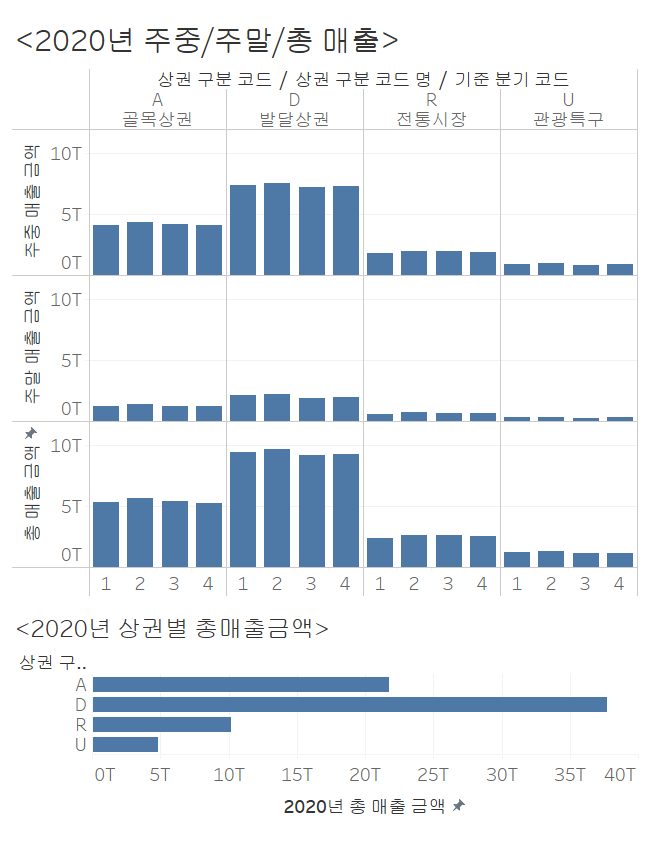

The dashboard page shown, as its layout file describes it:
{"tool":"tableau","page":{"name":"대시보드 2","canvas":[650,860],"ordinal":1},"visuals":[{"type":"worksheet","title":"2020_1","mark":"Automatic","rows":["주중_매출_금액","주말_매출_금액","Calculation_1875467832714543112"],"cols":["상권_구분_코드","상권_구분_코드_명","기준_분기_코드"],"box":[8,8,634,593]},{"type":"worksheet","title":"2020_2","mark":"Automatic","rows":["상권_구분_코드"],"cols":["Calculation_1875467832715567114"],"box":[8,601,634,251]}]}

Visuals, with their boxes in screenshot pixels (x1, y1, x2, y2), scaled from the page's 650x860 canvas onto the 650x860 screenshot:
"2020_1" worksheet: bbox(8, 8, 642, 601)
"2020_2" worksheet: bbox(8, 601, 642, 852)
